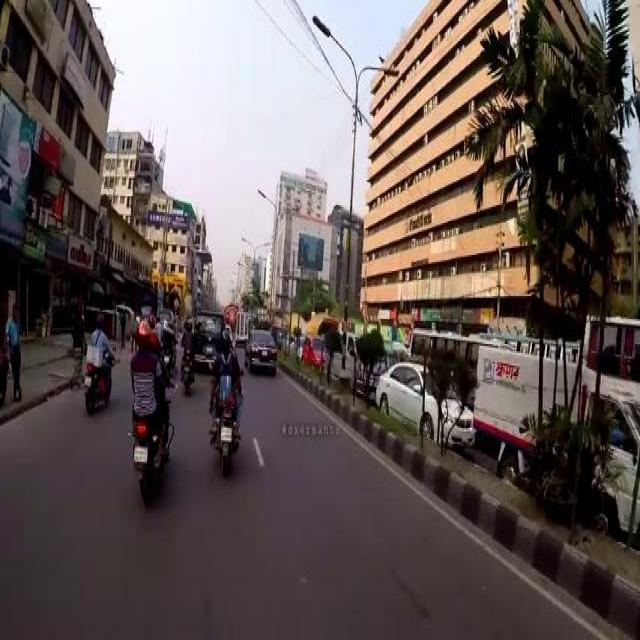bus: (578, 309, 638, 402), (408, 325, 512, 376)
car: (374, 360, 476, 444), (501, 331, 581, 362), (243, 326, 277, 367)
motorbike: (128, 402, 174, 502), (212, 380, 238, 474), (82, 343, 114, 411), (179, 345, 195, 391)
pickup: (474, 342, 638, 538)
van: (193, 308, 225, 361)
